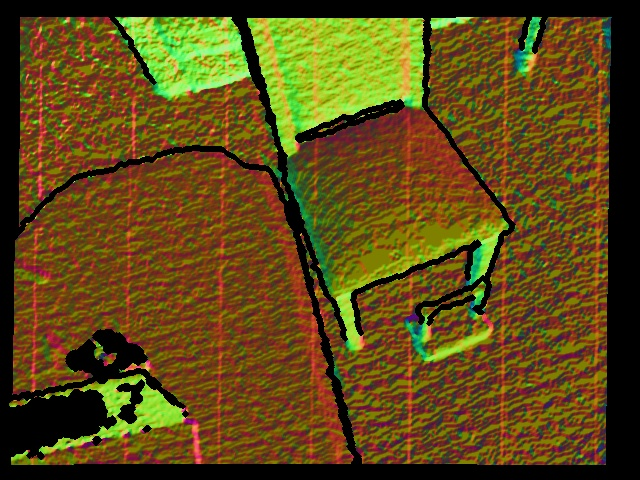station: (408, 279, 490, 359)
